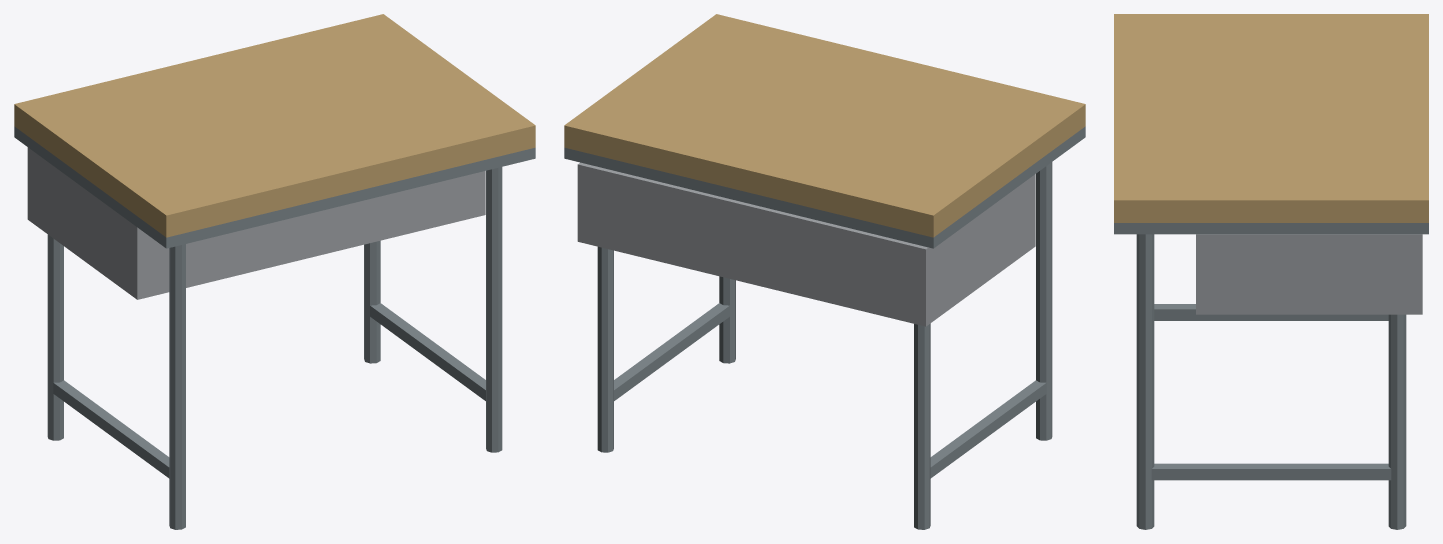
File: prop_desk.glb
The picture shows the model from 3 angles, left to right: view 1: azimuth 30°, elevation 25°; view 2: azimuth 150°, elevation 25°; view 3: azimuth 270°, elevation 25°; orthographic projection. The views are drawn at different scales.
Parts seen in each view (by area): view 1: Desk; view 2: Desk; view 3: Desk.
Part boxes in pixels (x1,y1,x2,y2): Desk: (14,14,535,529); Desk: (564,14,1085,529); Desk: (1114,14,1428,529).
Bounding box in the file's own units: 0.7 × 0.595 × 0.5.
